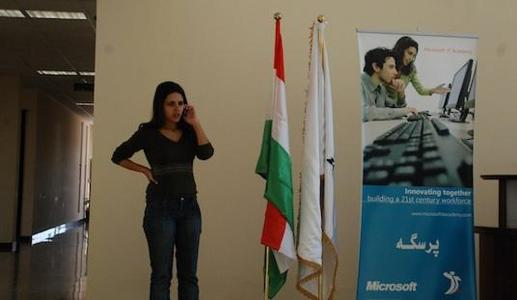person: (108, 82, 216, 300)
